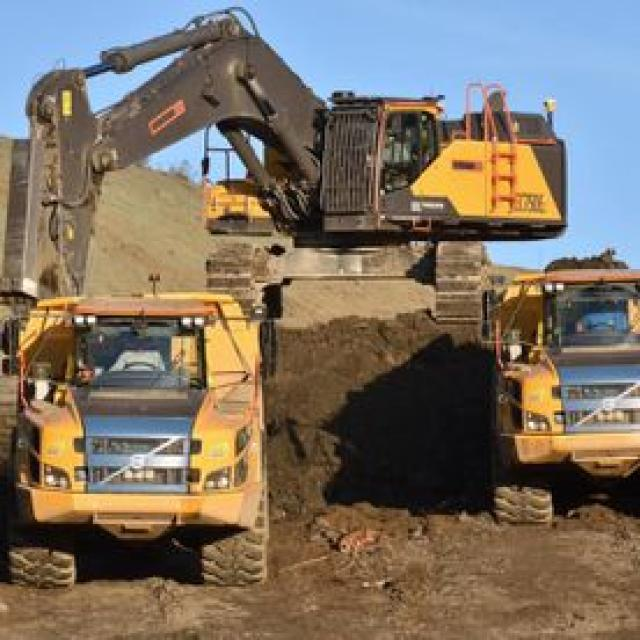dump_truck: (16, 283, 292, 628), (463, 258, 638, 556)
excavator: (7, 2, 554, 385)
